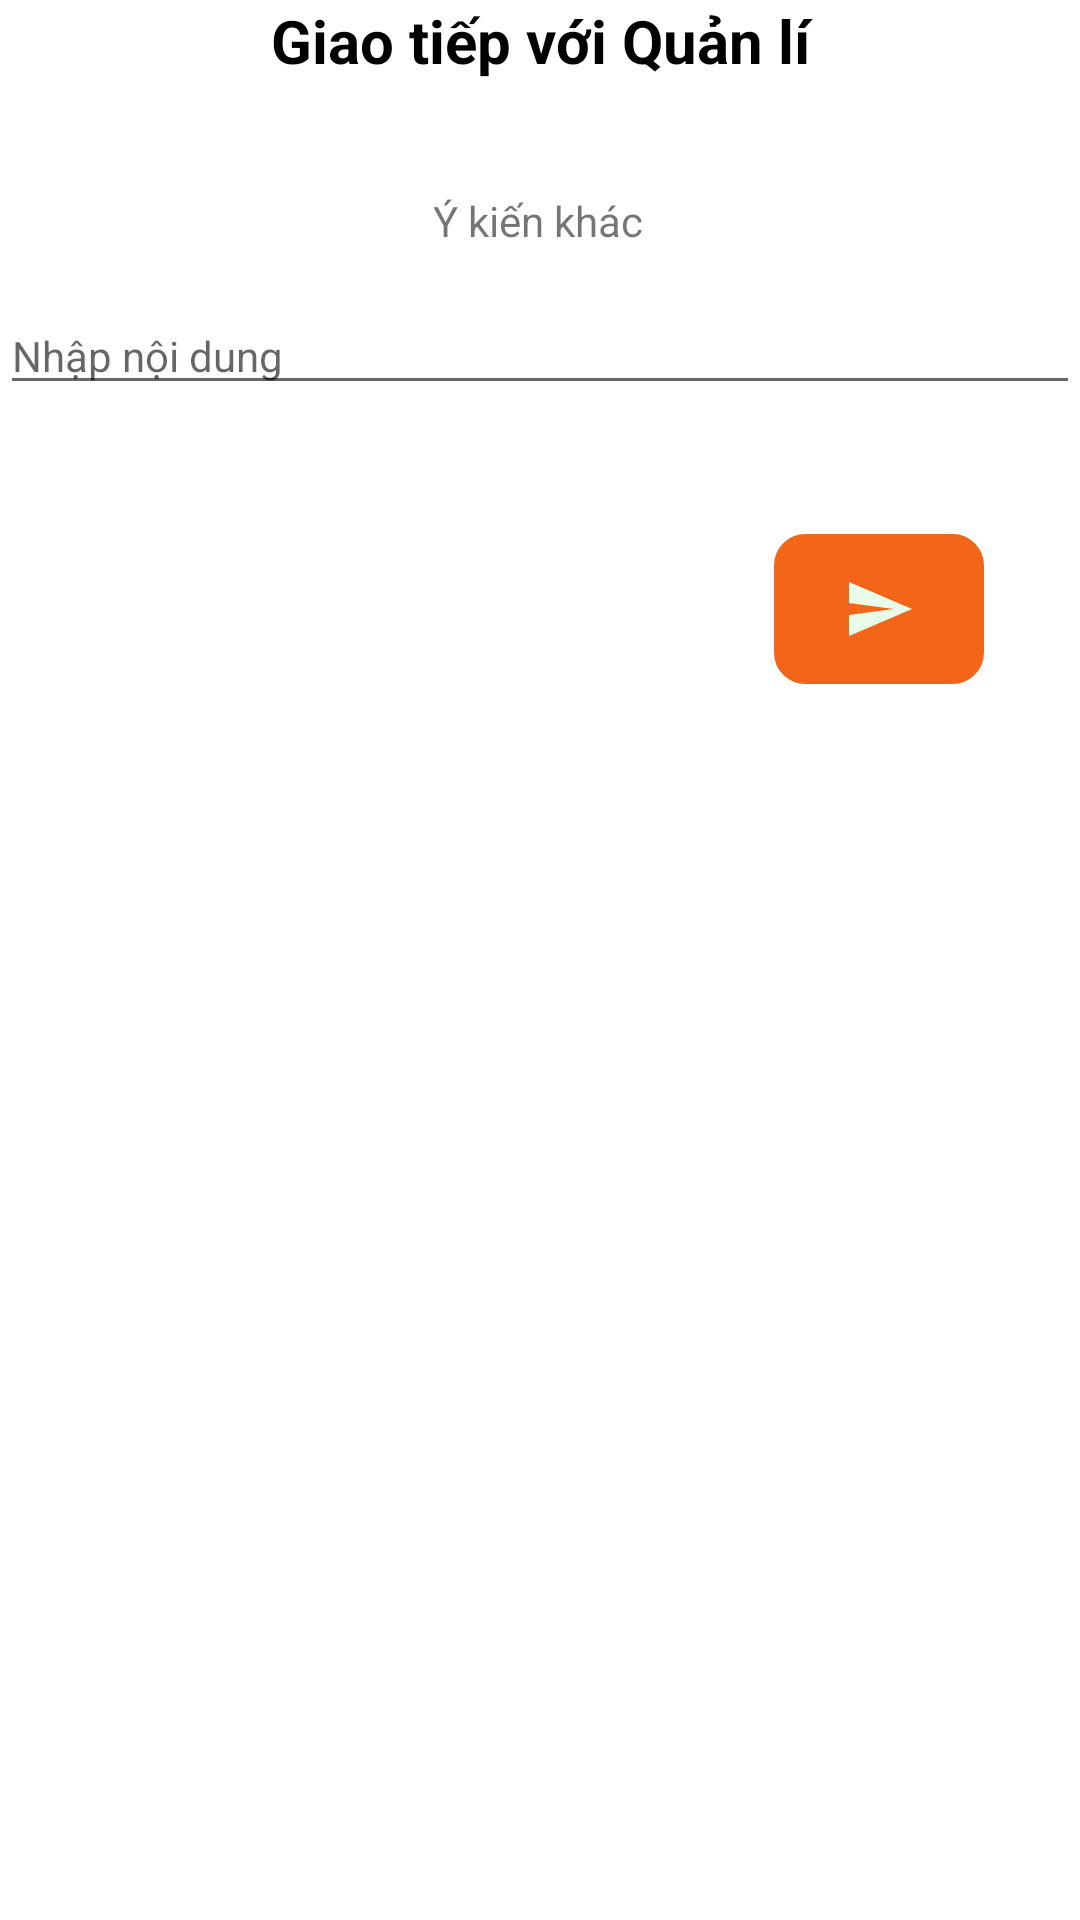

Icons on this 1080×1920 Android screen, each with the point to tap as [x,y]:
send: [879,609]
